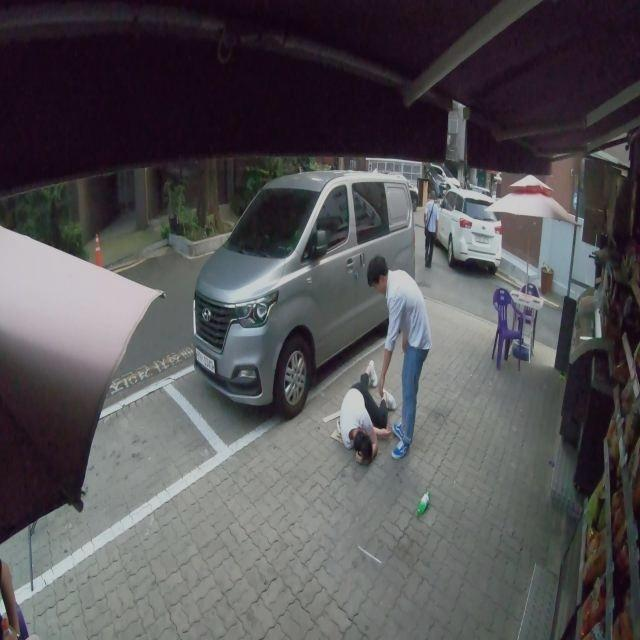fight: (335, 258, 431, 467)
